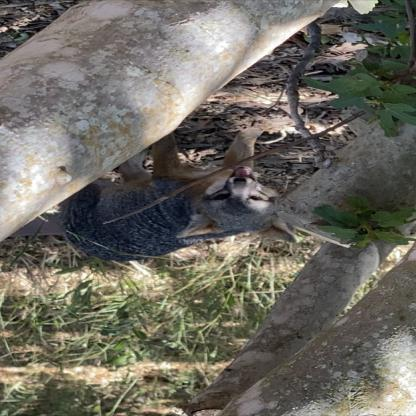zorro: (51, 119, 303, 265)
